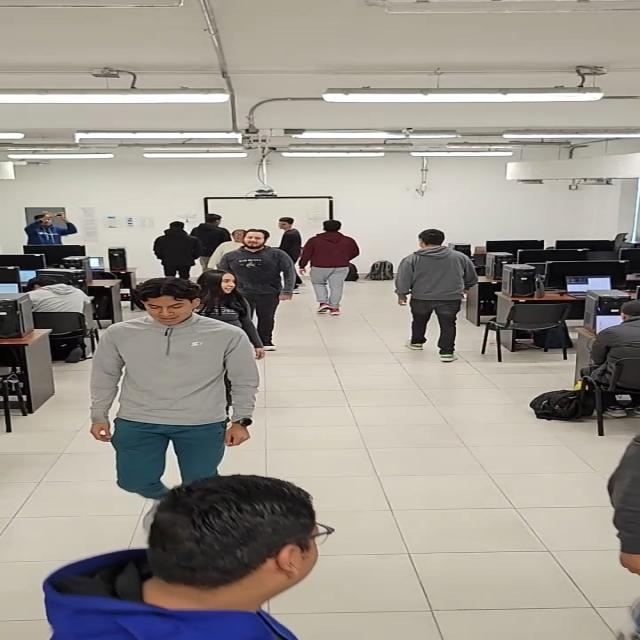Persona: (43, 474, 337, 640), (87, 277, 260, 527), (396, 228, 478, 362), (216, 228, 300, 352), (191, 270, 267, 366), (297, 219, 360, 316), (153, 220, 200, 283), (274, 218, 308, 294), (190, 214, 232, 271), (208, 229, 254, 273)
